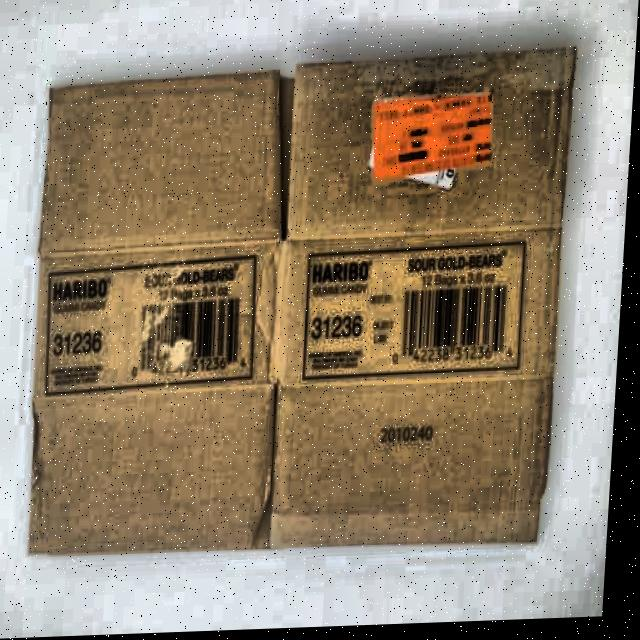cardboard: (19, 45, 578, 561)
